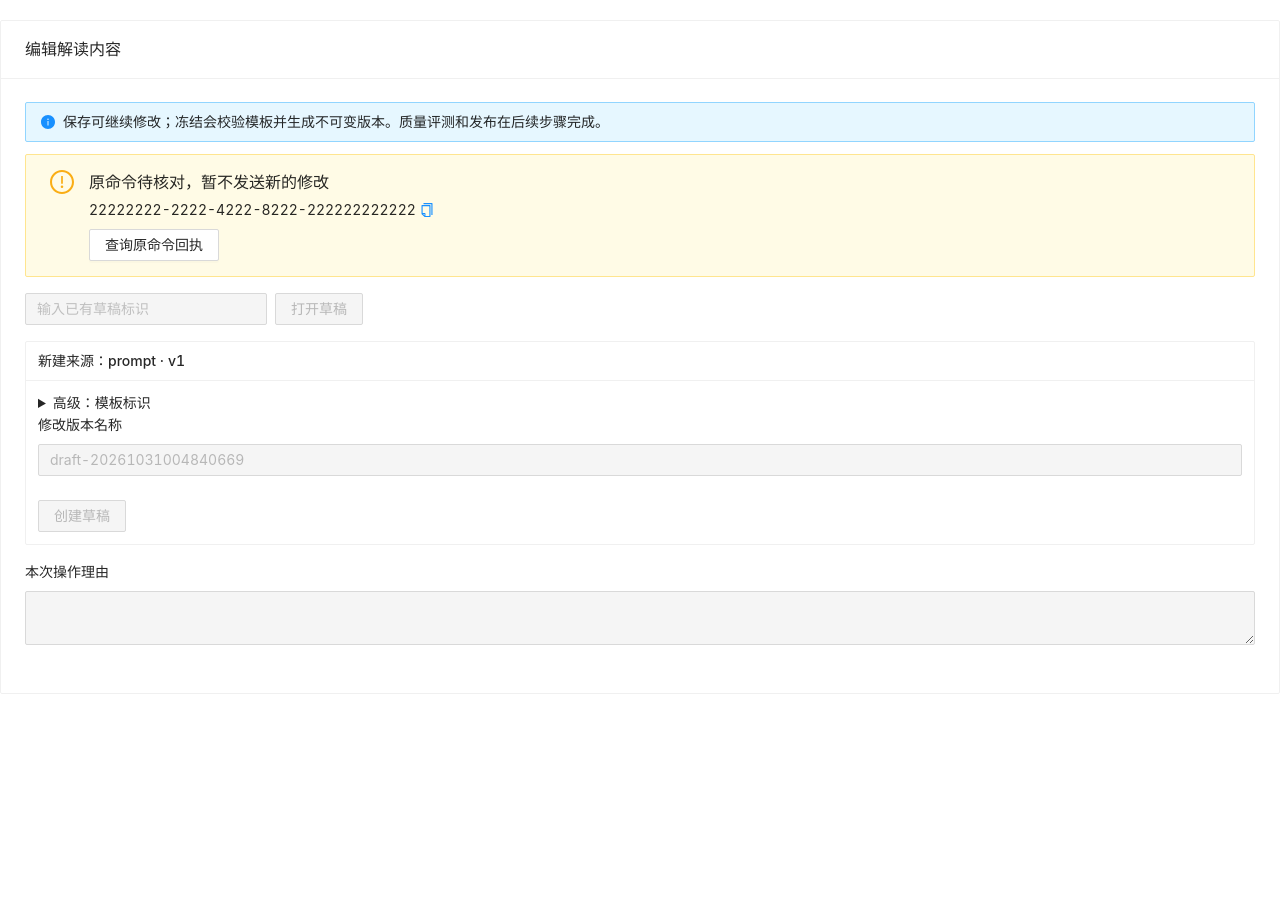
Scenario: keeps not-found receipts pending and does not expose another owner journal
Click the button "查询原命令回执" at (154, 245), box [89, 229, 219, 261]
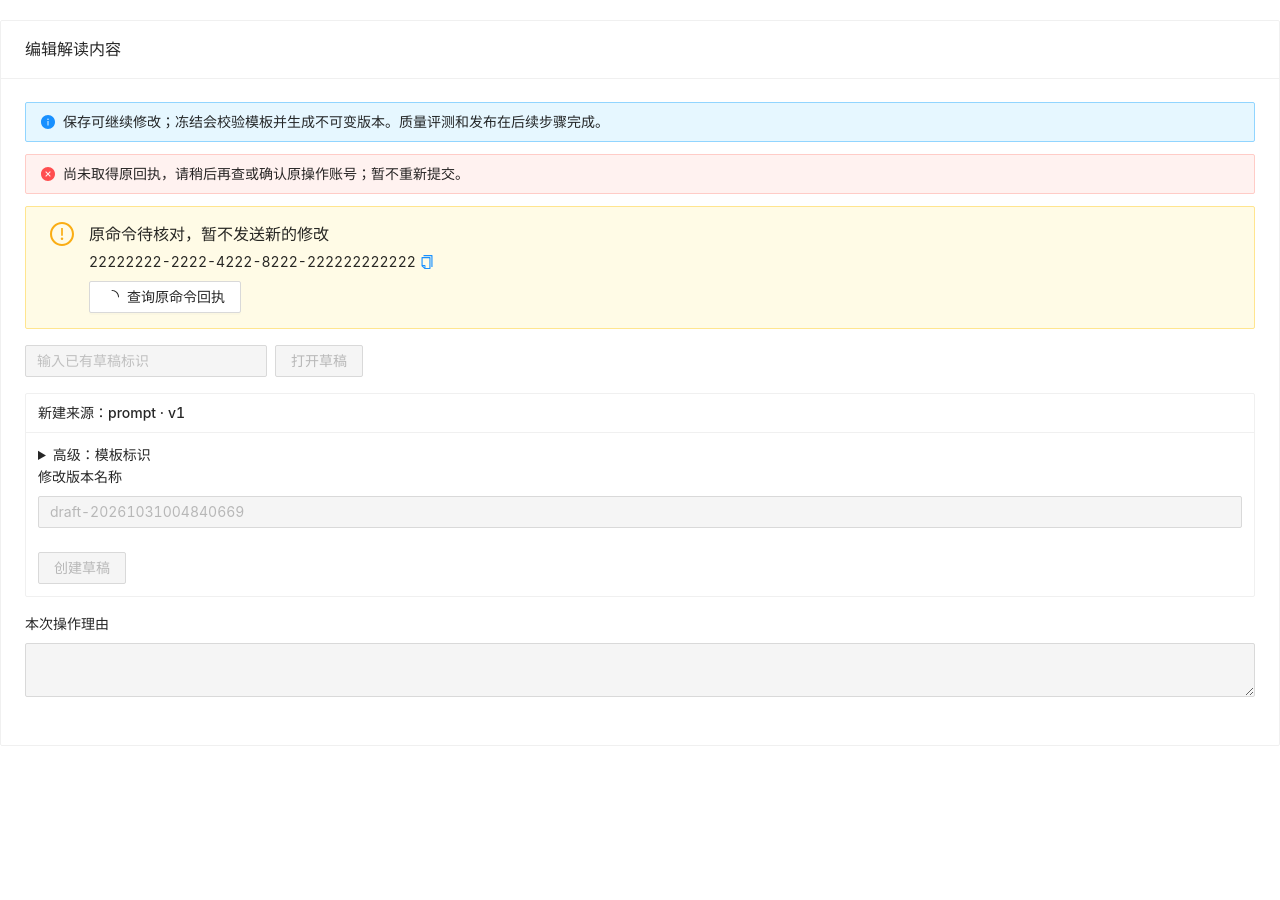
Expected: the button "创建草稿" is disabled, [38, 552, 126, 584]
Now the text "尚未取得原回执，请稍后再查或确认原操作账号；暂不重新提交。" is shown, box [63, 165, 469, 182]
